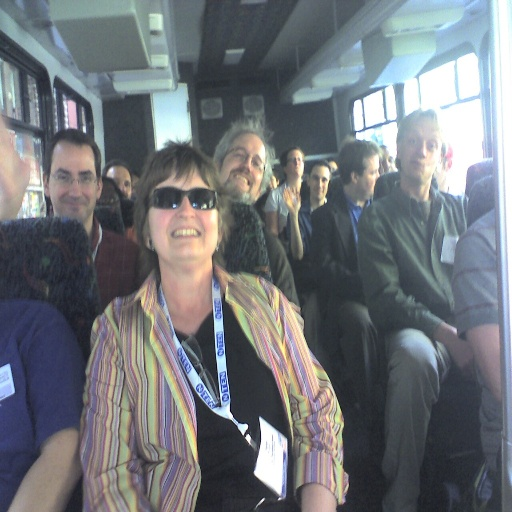hand: (446, 326, 476, 381), (281, 182, 300, 213)
